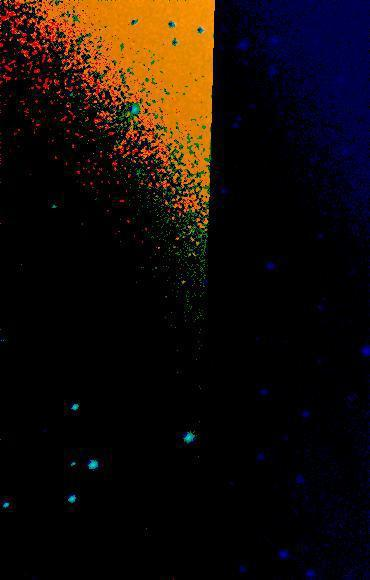star: (26, 295, 56, 325)
